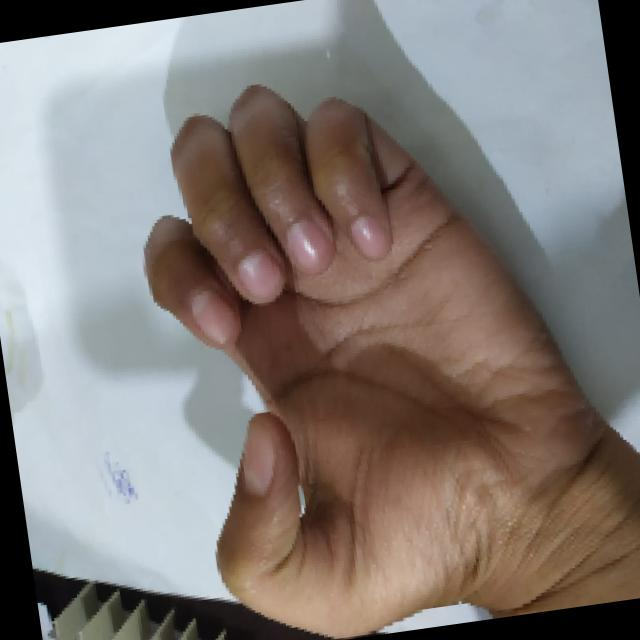Nail: (190, 289, 238, 342), (236, 250, 283, 301), (286, 220, 330, 272), (241, 423, 273, 492), (349, 216, 389, 260)
